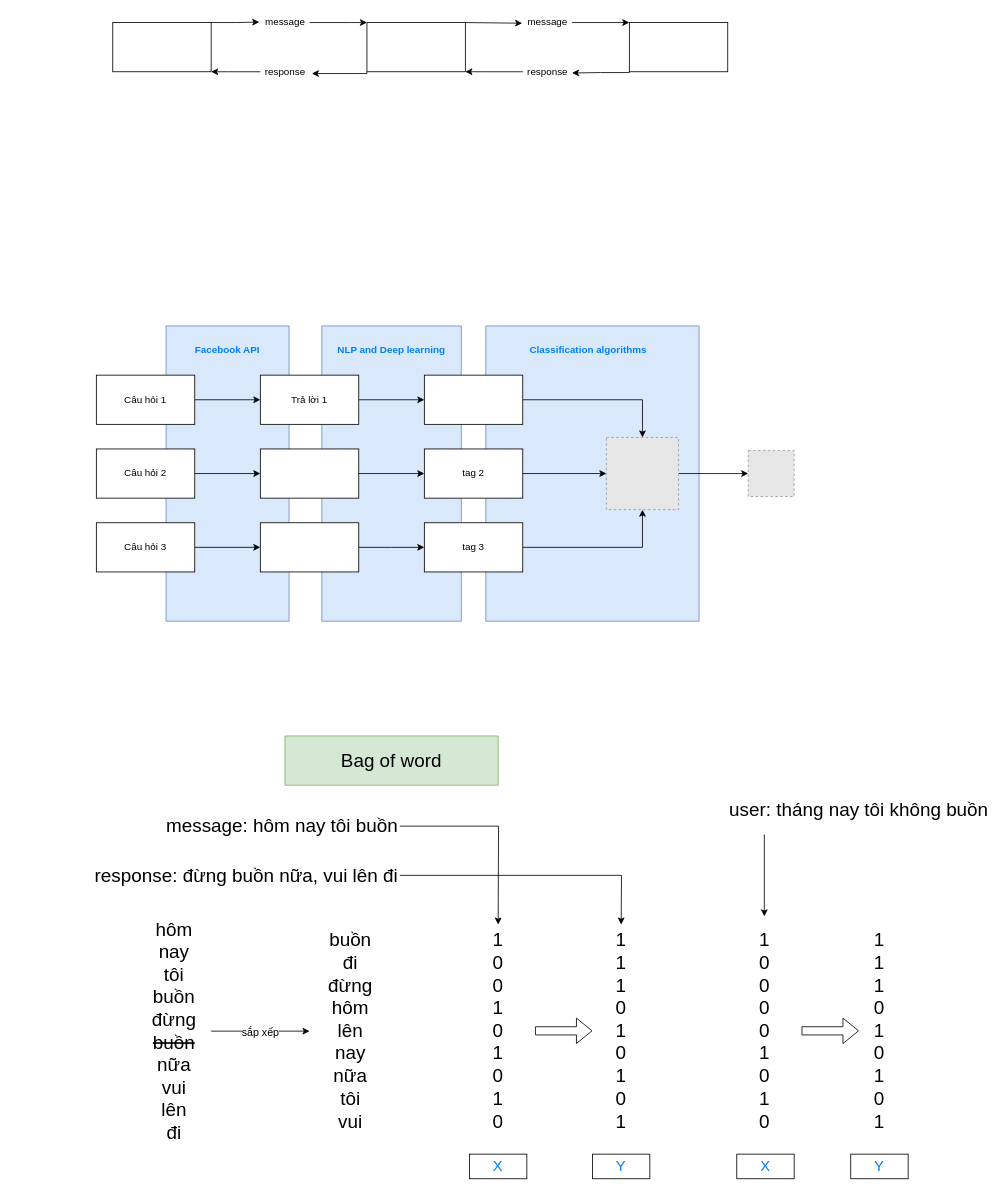
This 1004x1193 diagram has some shape labels left out. Grey dashed boxes stand in for pictures. The box of each missing label's shape, as (x1, y1, x2, y2) in pixels:
Chatfuel: (366, 22, 465, 72)
Facebook: (112, 22, 211, 72)
ML Server: (629, 22, 728, 72)
tag 1: (424, 374, 523, 424)
Trả lời 2: (260, 448, 359, 498)
Trả lời 3: (260, 522, 359, 572)
